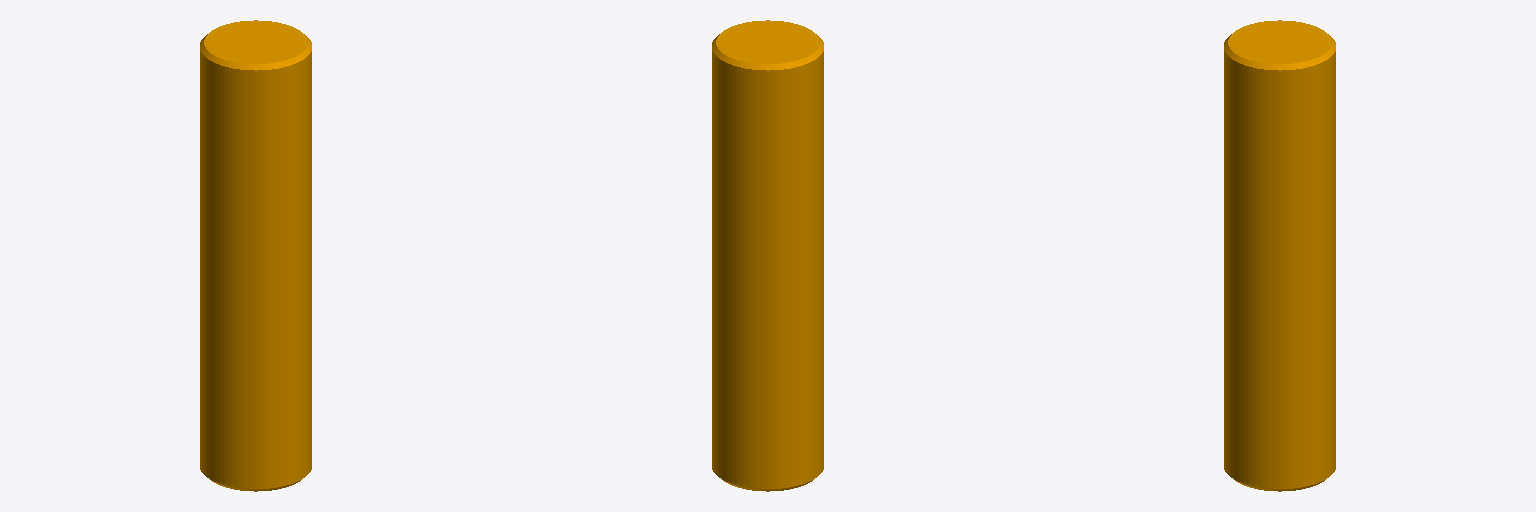
The robot description file, URDF, robot "factory_round_peg_12mm_loose":
<?xml version="1.0"?>
<robot name="factory_round_peg_12mm_loose">
    <link name="factory_round_peg_12mm_loose">
        <visual>
            <geometry>
                <mesh filename="../mesh/factory_insertion/factory_round_peg_12mm_loose.obj"/>
            </geometry>
        </visual>
        <collision>
            <geometry>
                <mesh filename="../mesh/factory_insertion/factory_round_peg_12mm_loose.obj"/>
            </geometry>
            <sdf resolution="256"/>
        </collision>
    </link>
</robot>

--- Facts derived from the render (not from the file) ---
3 views of the same robot in one strip: view 1: azimuth 30°, elevation 25°; view 2: azimuth 150°, elevation 25°; view 3: azimuth 270°, elevation 25° (orthographic).
Robot: factory_round_peg_12mm_loose — 1 links, 0 joints (none); root link factory_round_peg_12mm_loose; default pose: every joint at zero.
Visible links, largest first — view 1: factory_round_peg_12mm_loose; view 2: factory_round_peg_12mm_loose; view 3: factory_round_peg_12mm_loose.
Link boxes in pixels (x1,y1,x2,y2): factory_round_peg_12mm_loose: [200, 20, 311, 491]; factory_round_peg_12mm_loose: [712, 20, 823, 491]; factory_round_peg_12mm_loose: [1224, 20, 1335, 491].
Bounding box of the posed robot: 0.012 × 0.012 × 0.05 m (x, y, z).
1 mesh visuals loaded from 1 distinct referenced files (1 OBJ).